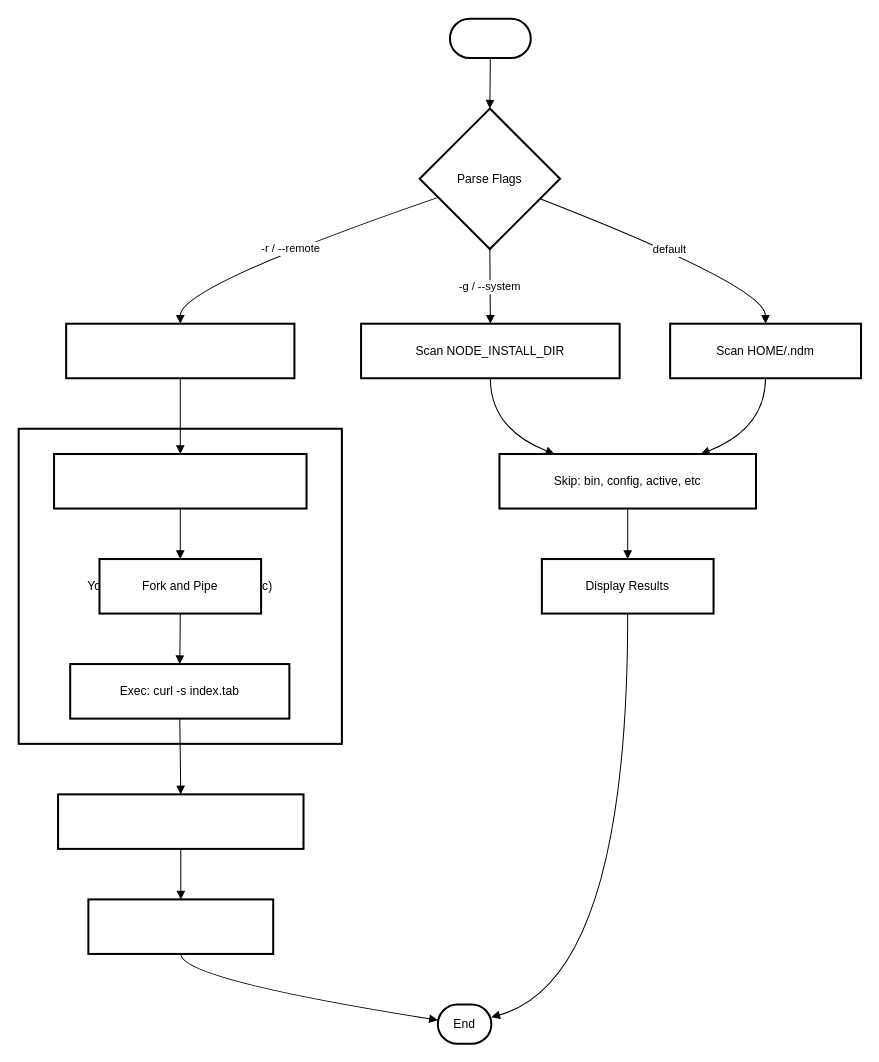
Some shapes in this 879 by 1062 pixel diagram are drawn without their labels. Here are the shapes that lost their labels. From the top down, the centre of each, then its label:
At (489,38): "ndm list".
At (180,350): "Fetch Remote Versions".
At (180,480): "Execute: command_output".
At (180,821): "In-Memory Prefix Filtering".
At (180,926): "Print Remote List".
